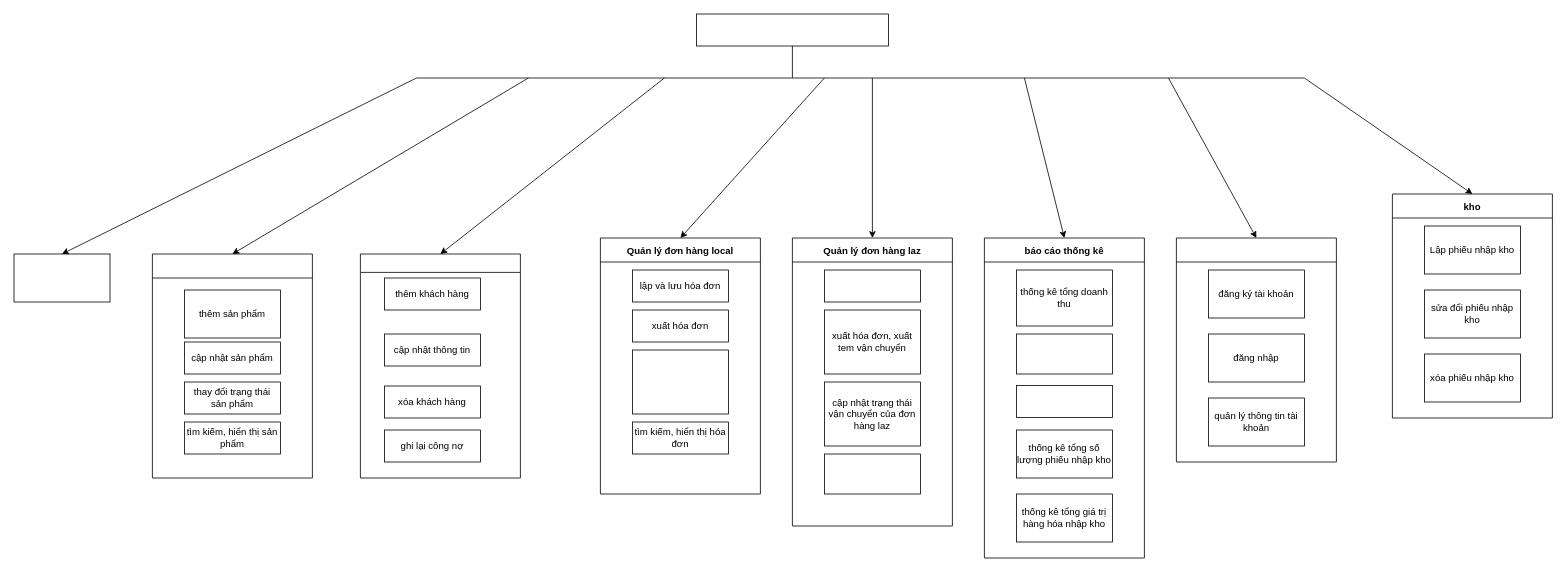
The diagram is 1566 pixels wide and 572 high, and some of its shapes have lost their labels. The box of each missing label's shape, as (x1, y1, x2, y2) in pixels:
lưu trữ đơn hàng từ laz: (824, 269, 920, 302)
Phầm mềm hỗ trợ bán giày đa nền tảng: (696, 13, 888, 46)
Quản lý khách hàng local: (360, 253, 520, 478)
quản lý sản phẩm: (152, 253, 312, 478)
thay đổi trạng thái vận chuyển đơn hàng local: (632, 349, 728, 414)
thống kê doanh số, doanh thu từng sản phẩm: (1016, 333, 1112, 374)
thống kê số lượng đơn đặt hàng: (1016, 385, 1112, 418)
tài khoản người dùng: (1176, 237, 1336, 462)
tìm kiếm, hiển thị đơn hàng: (824, 453, 920, 494)
Uỷ quyền tài khoản bán hàng trên nền tảng laz - quản lý token: (13, 253, 110, 302)
